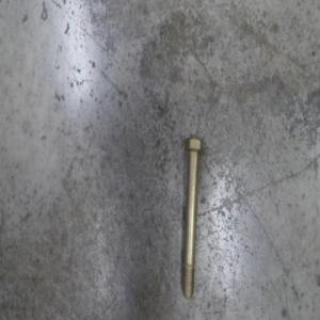Bolttrack_idkeyframe: (179, 134, 204, 299)
